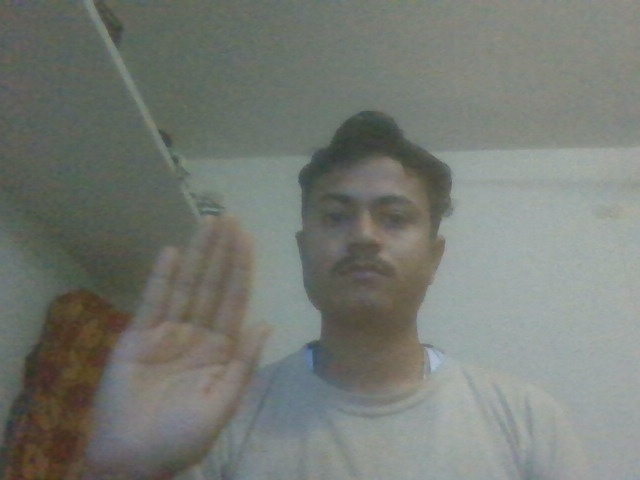Hello: (62, 206, 273, 480)
